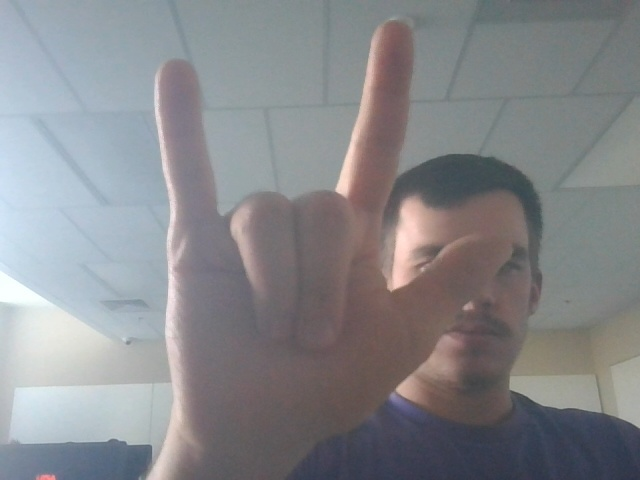iloveyou: (139, 13, 480, 462)
